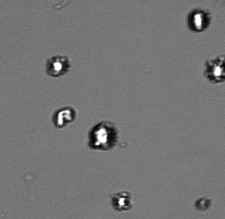Dead Cell: (195, 194, 212, 212)
Living Cell: (88, 120, 117, 152), (187, 8, 211, 32), (205, 53, 223, 84), (52, 106, 76, 129), (46, 54, 69, 76), (111, 190, 133, 212)
